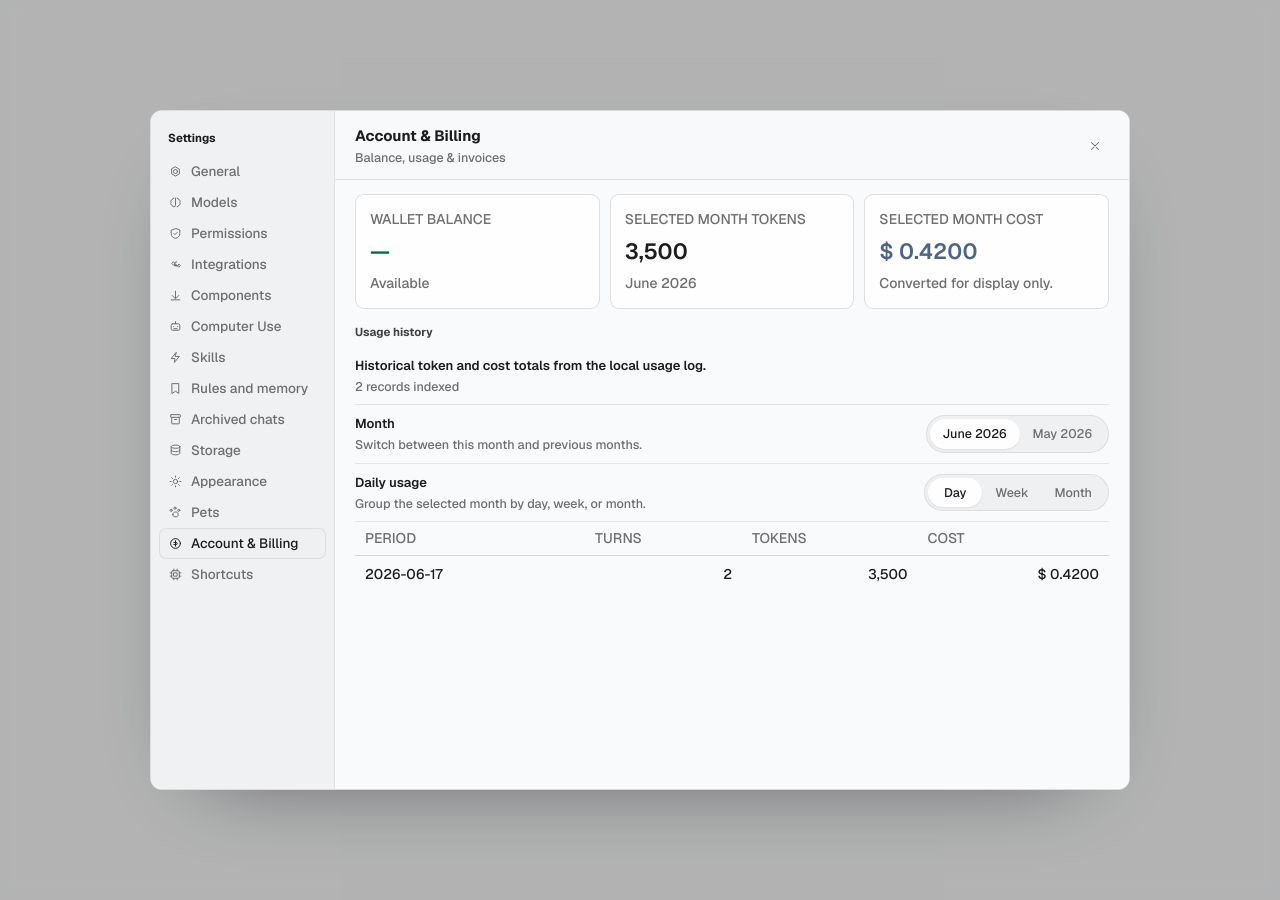
SettingsModal › shows historical token and cost usage in the billing settings page
The width and height of the screenshot is (1280, 900).
Expected: the text "Usage history" is shown, [355, 324, 433, 339]
Expected: the text "June 2026" is shown, [625, 274, 696, 292]
Click the button "May 2026": {"x": 1062, "y": 434} [1020, 419, 1105, 449]
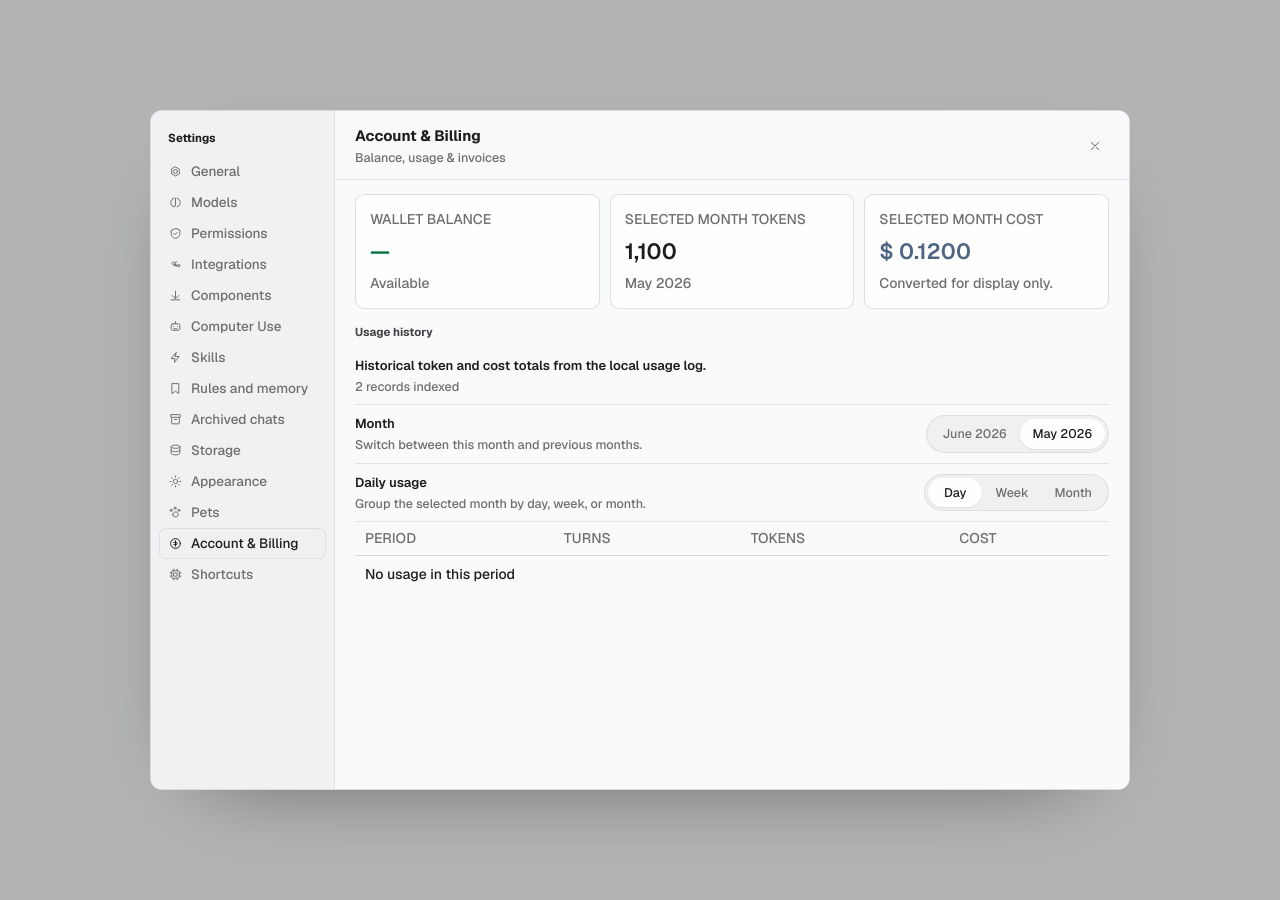
Result: the text "1,100" is shown at [625, 237, 677, 265]
Click the button "Week": {"x": 1012, "y": 492} [982, 478, 1042, 507]
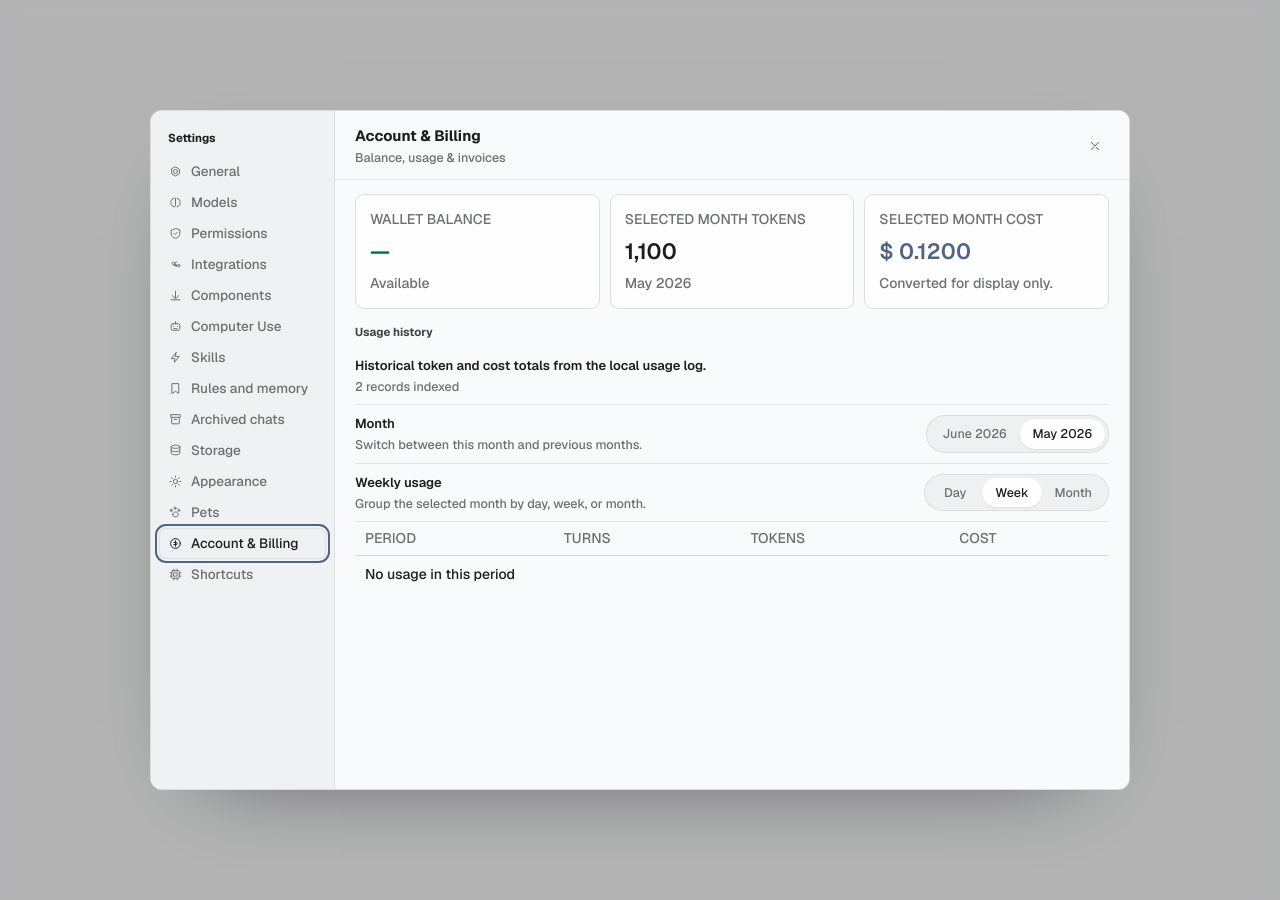
Result: the text "Weekly usage" is shown at [355, 474, 442, 490]
